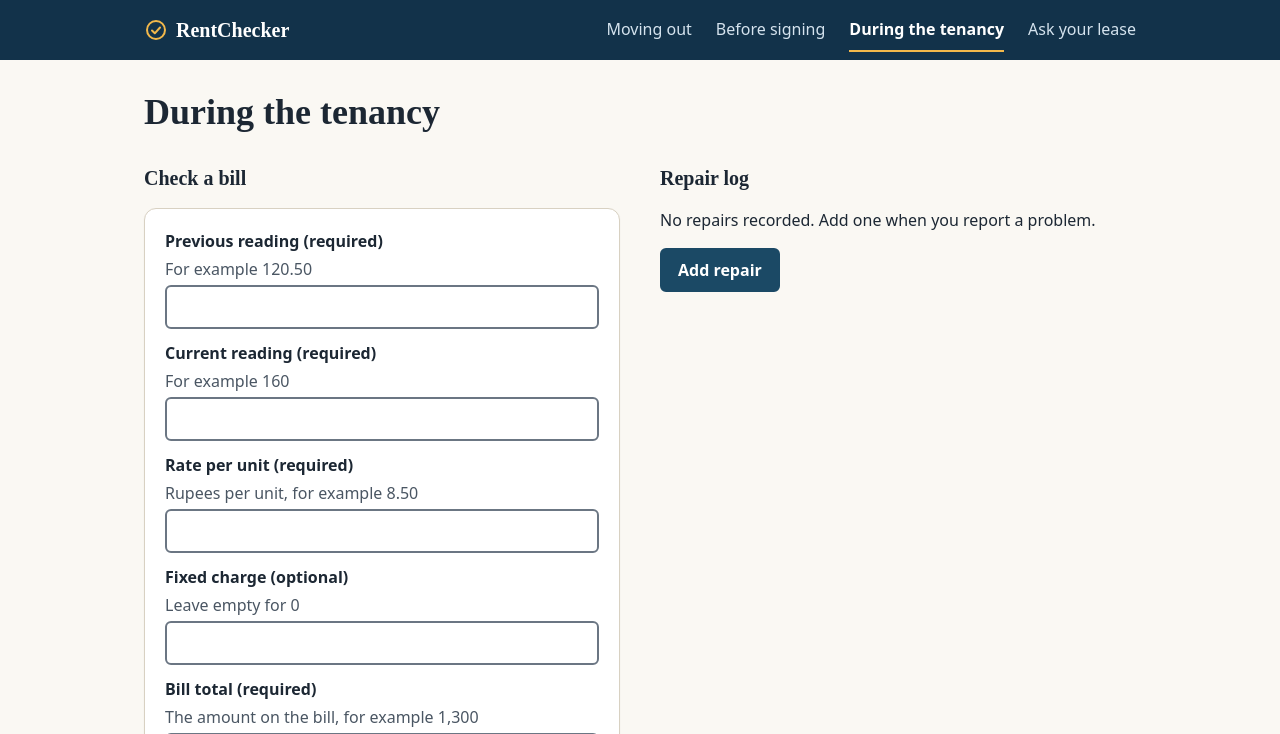
Scenario: Repair log › F5-R5 Save with empty boxes shows messages, the summary, and focuses the first wrong box
Click the button "Add repair" at (720, 270), box [660, 248, 780, 292]
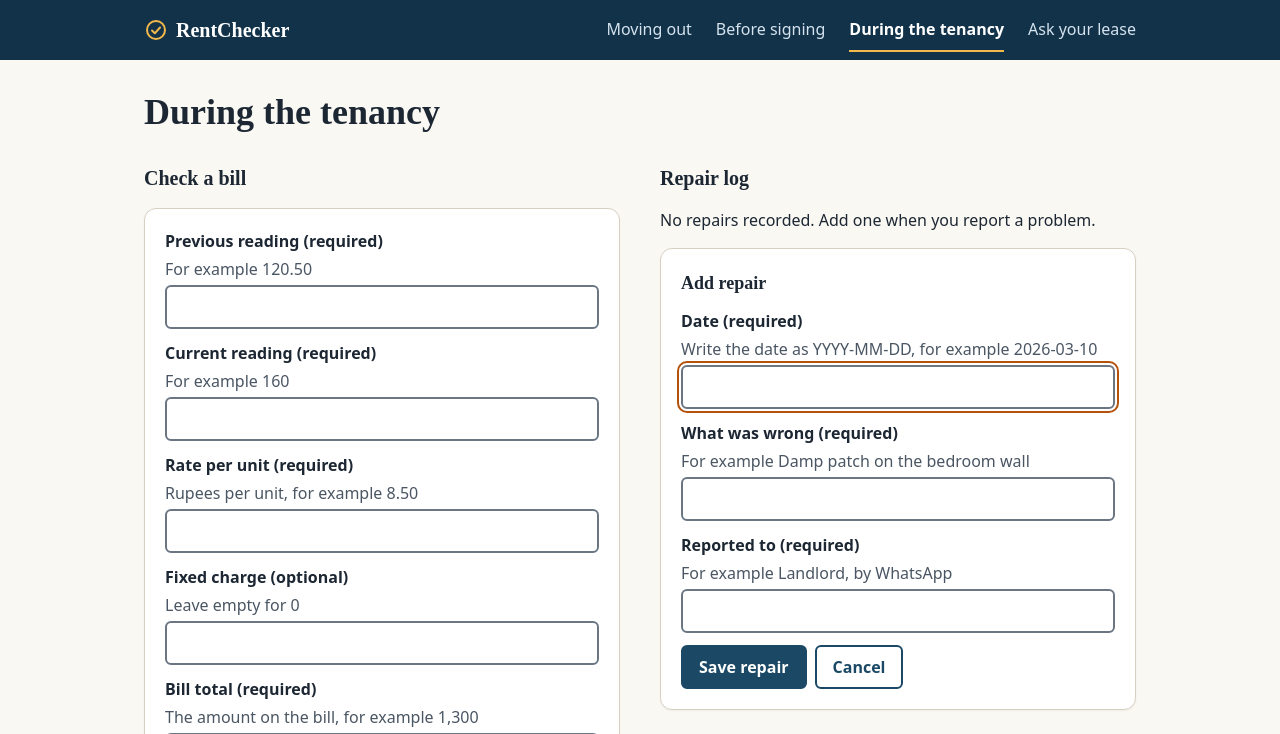
Click the button "Save repair" at (744, 667), box [681, 645, 806, 689]
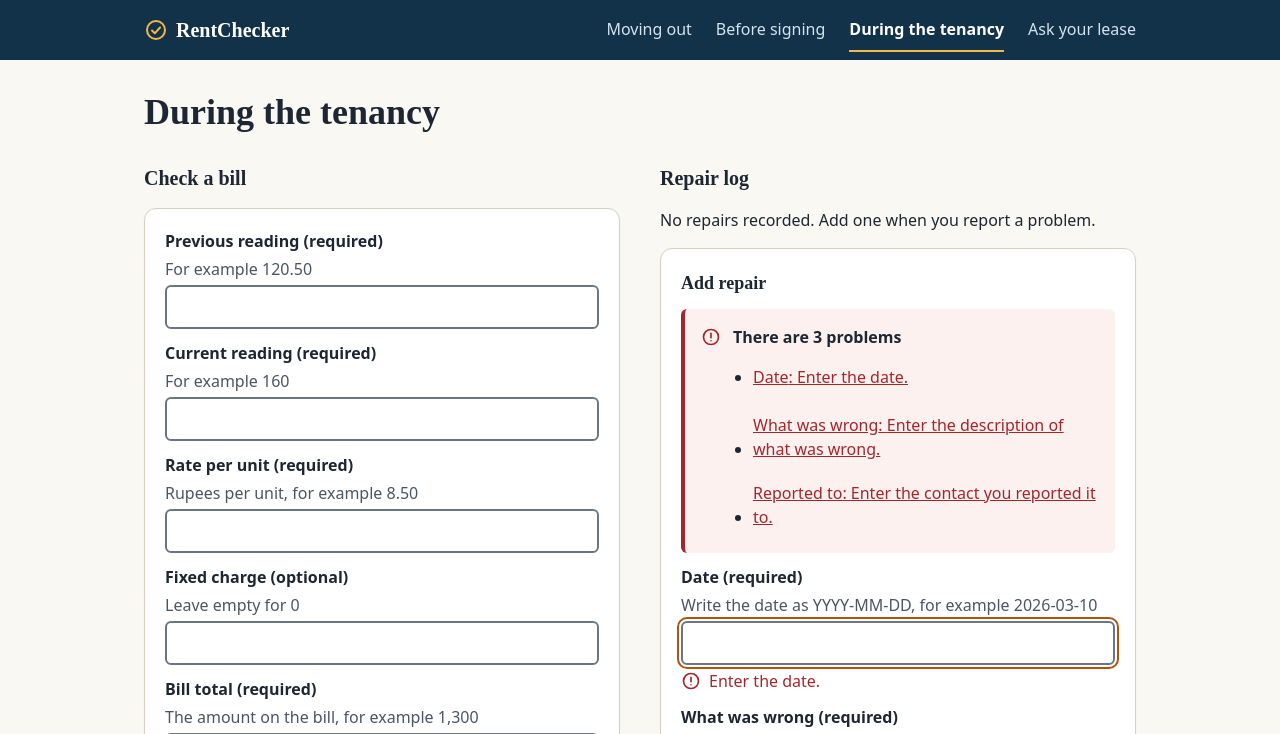
Now the text "There are 3 problems" is shown, box [733, 326, 901, 348]
Now the text "Enter the date." is shown, box [709, 669, 820, 693]
